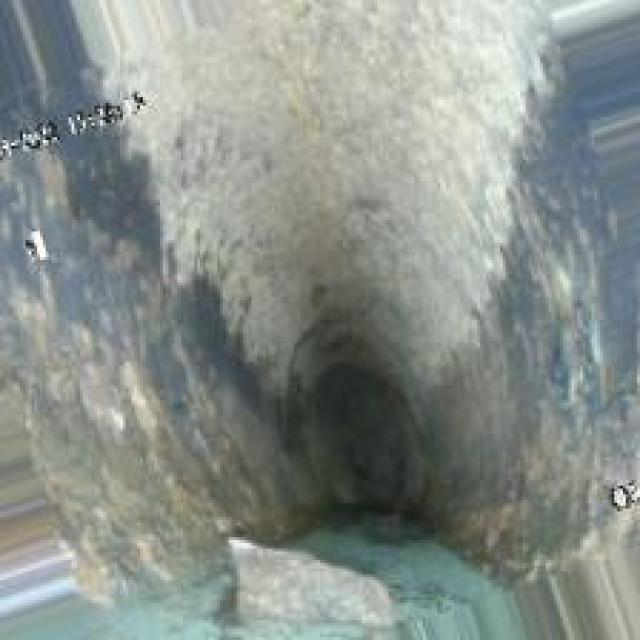stone: (212, 526, 397, 631)
